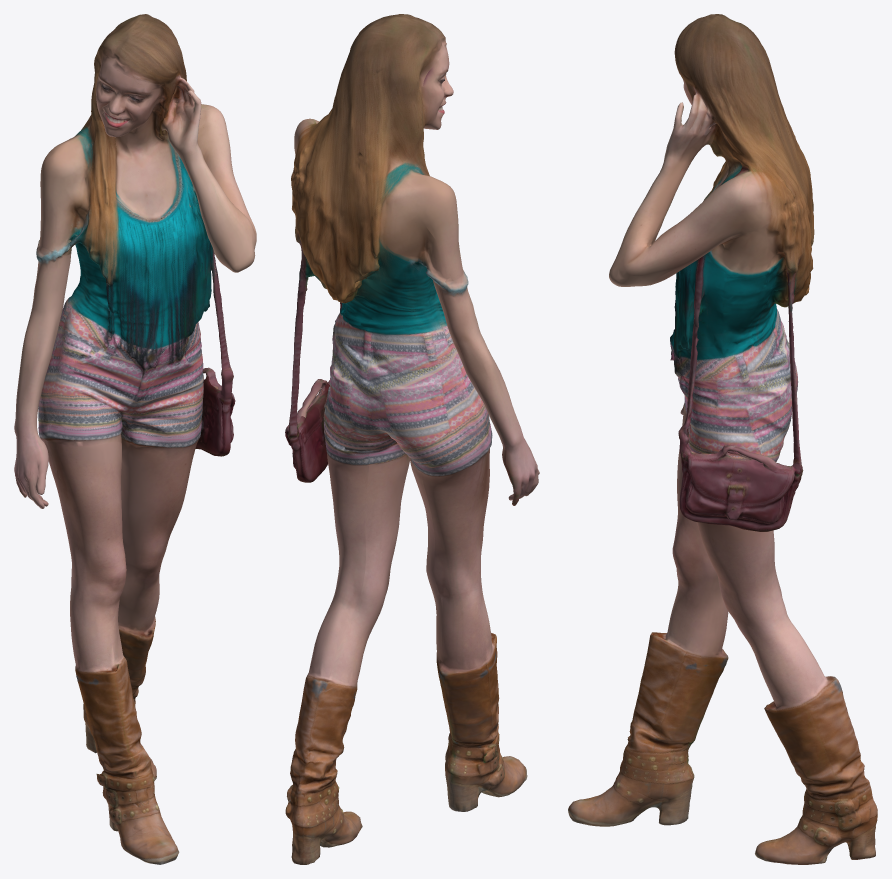
Rendered from character_people_girl_001.glb.
3 views of the same model, side by side, from view 1: azimuth 30°, elevation 25°; view 2: azimuth 150°, elevation 25°; view 3: azimuth 270°, elevation 25° (orthographic). The views are drawn at different scales.
Parts seen in each view (by area): view 1: Material2; view 2: Material2; view 3: Material2.
Boxes of the visible parts, box(x1,y1,x2,y2) form: Material2: box(14, 14, 256, 864); Material2: box(285, 14, 539, 864); Material2: box(568, 14, 877, 864).
Bounding box in the file's own units: 19.43 × 66.78 × 22.72.
1 material, 1 textured.
